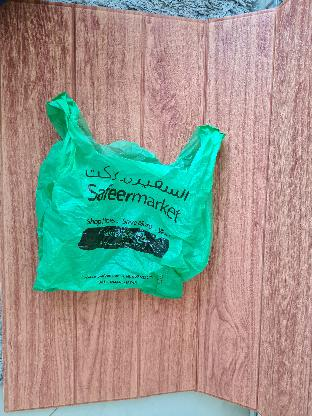Plastic Bag: (31, 93, 222, 300)
